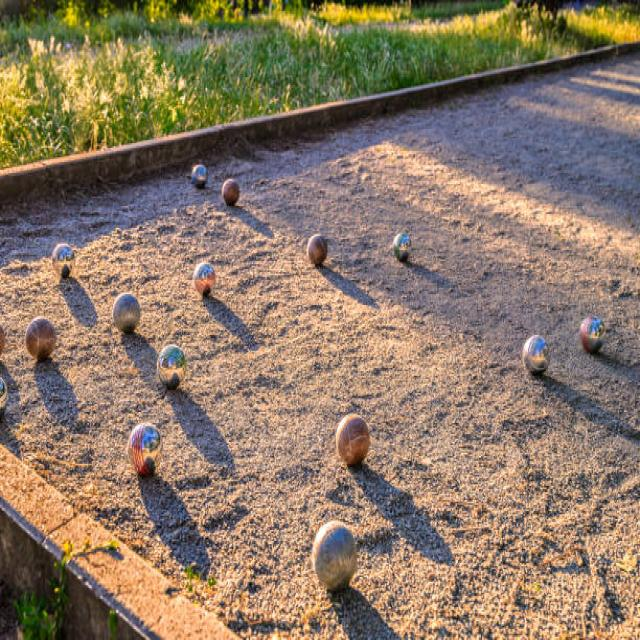petanque: (307, 513, 362, 594), (329, 403, 378, 471), (119, 423, 168, 488), (146, 338, 192, 397), (105, 286, 146, 346), (576, 311, 616, 362), (23, 316, 62, 368), (517, 334, 553, 382), (45, 238, 79, 286), (189, 257, 222, 305), (387, 229, 417, 268), (220, 172, 244, 214), (304, 233, 330, 271), (186, 161, 213, 191), (0, 373, 12, 428), (0, 315, 10, 361)
